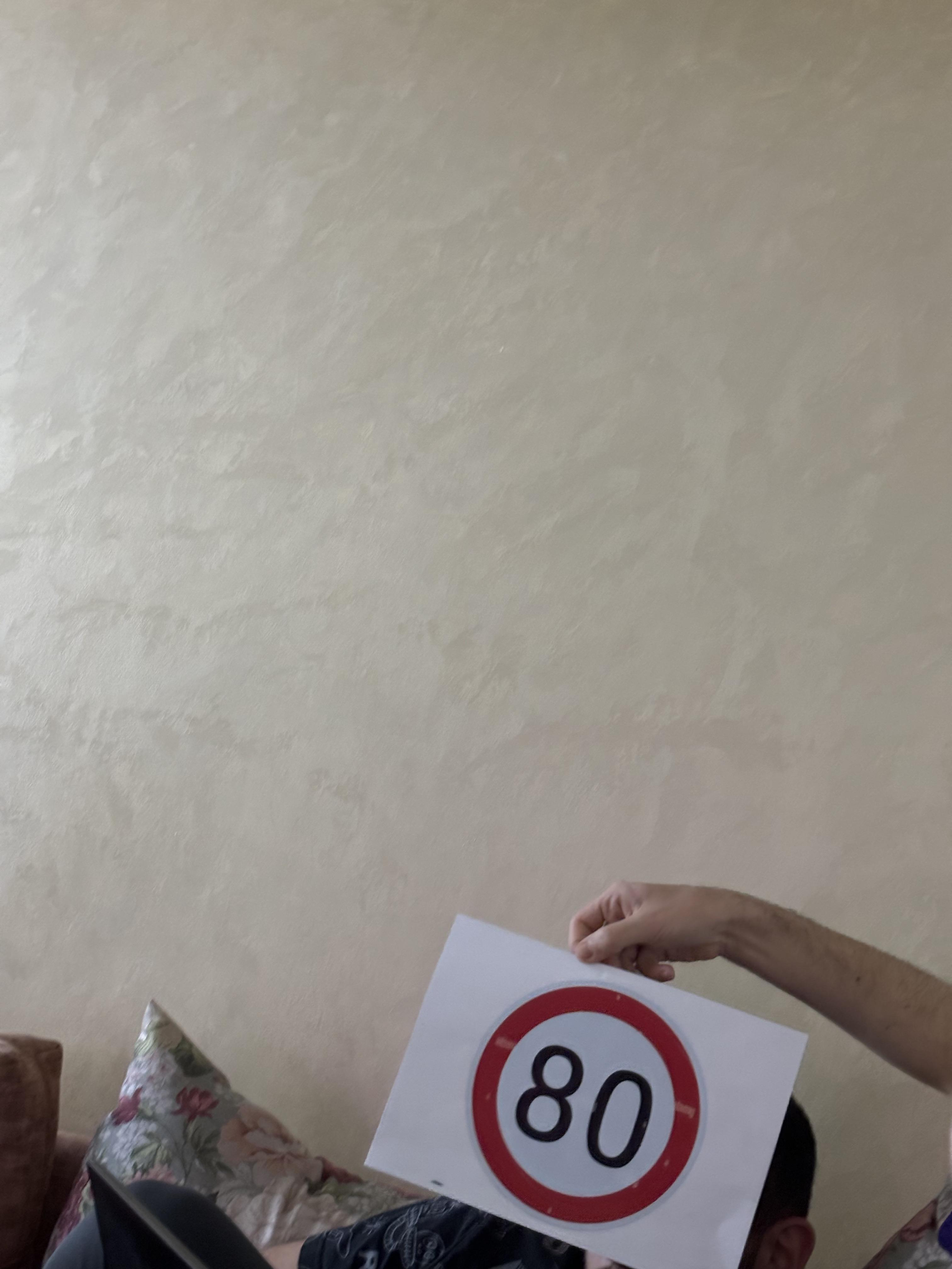80-Speed: (460, 973, 712, 1233)
